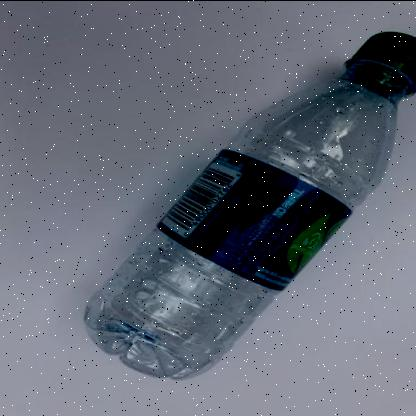Plastic Bottle: (84, 30, 416, 378)
